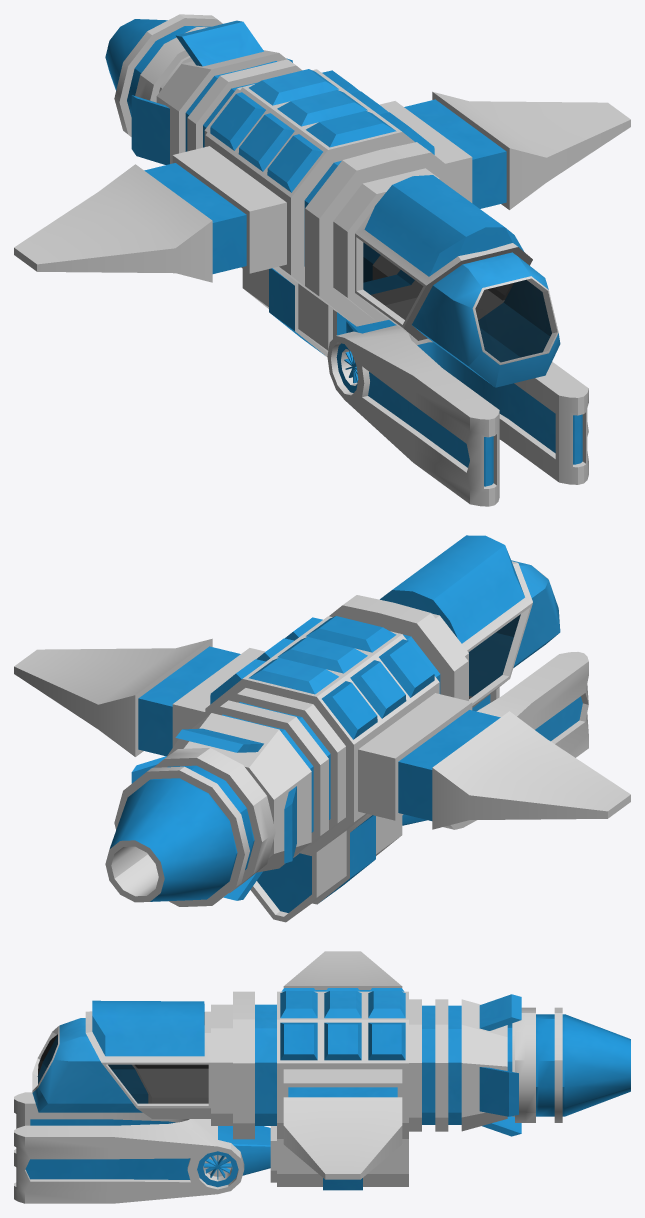
Rendered from BCD.fbx.
3 views of the same model, one above another, from view 1: azimuth 30°, elevation 25°; view 2: azimuth 150°, elevation 25°; view 3: azimuth 270°, elevation 25° (orthographic). The views are drawn at different scales.
Visible parts, largest first — view 1: BCD; view 2: BCD; view 3: BCD.
Part boxes in pixels (x1,y1,x2,y2): BCD: (14,14,630,506); BCD: (14,535,630,922); BCD: (14,951,630,1203).
Bounding box in the file's own units: 8 × 3.15 × 9.37.
